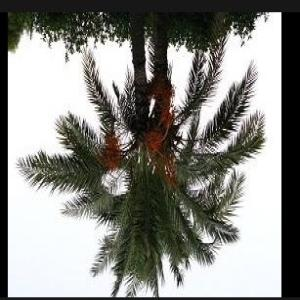palm tree: (10, 11, 268, 296)
